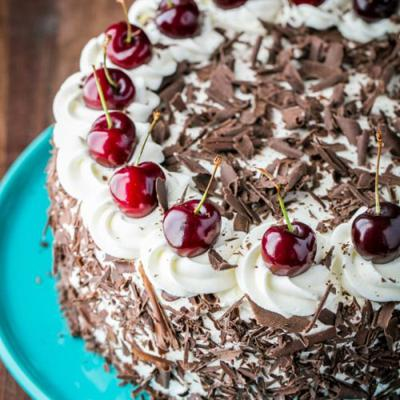cake: (51, 1, 399, 400)
